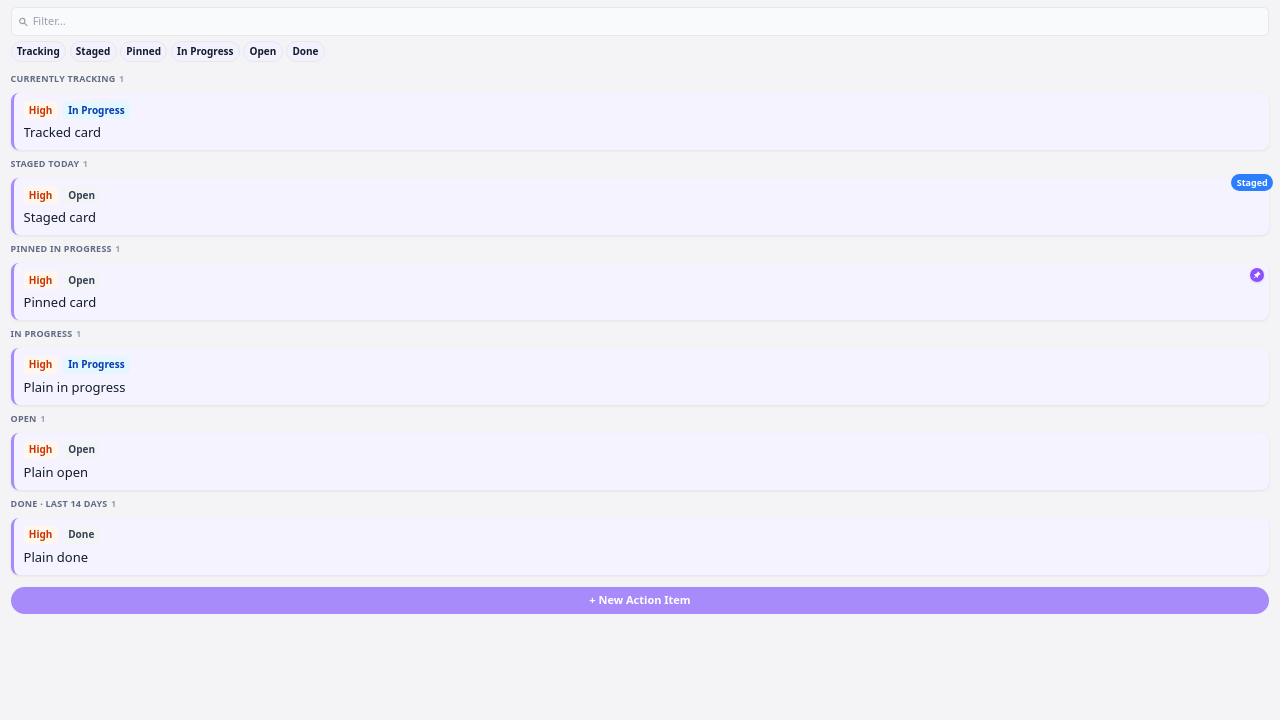
Test: action items sidebar filter flags › unions multiple ticked flags
The image size is (1280, 720).
Expected: the text "Tracked card" is shown, [24,123,101,141]
Click the button "Staged".
click(93, 52)  # box [70,41,117,62]
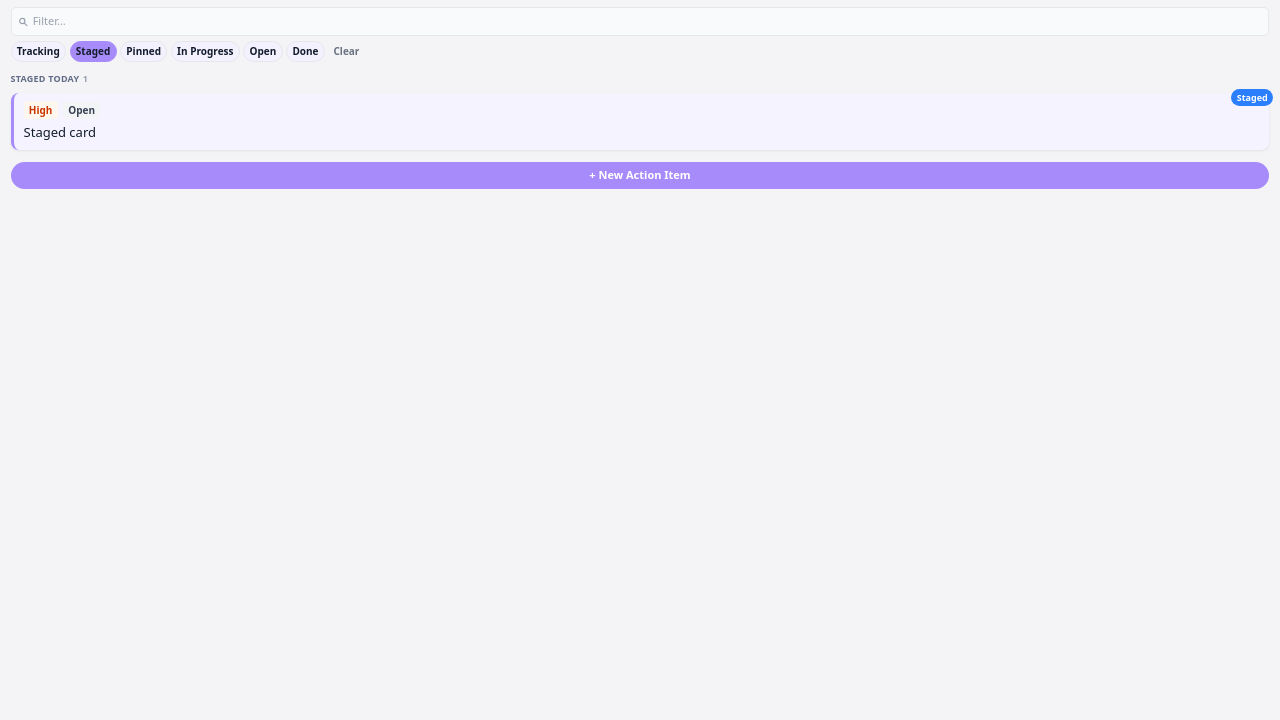
Click the button "Done".
click(305, 52)  # box [286,41,325,62]
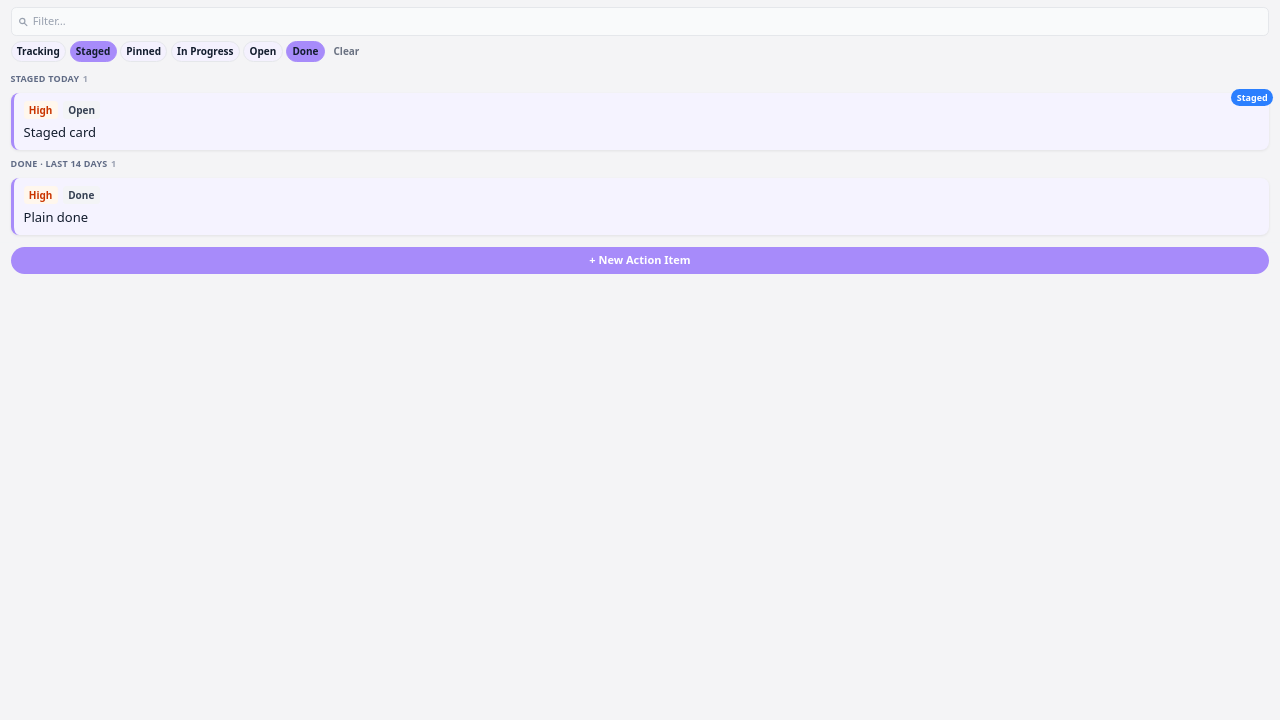
Expected: the text "Staged card" is shown, [24,123,96,141]
Expected: the text "Plain done" is shown, [24,208,88,226]
